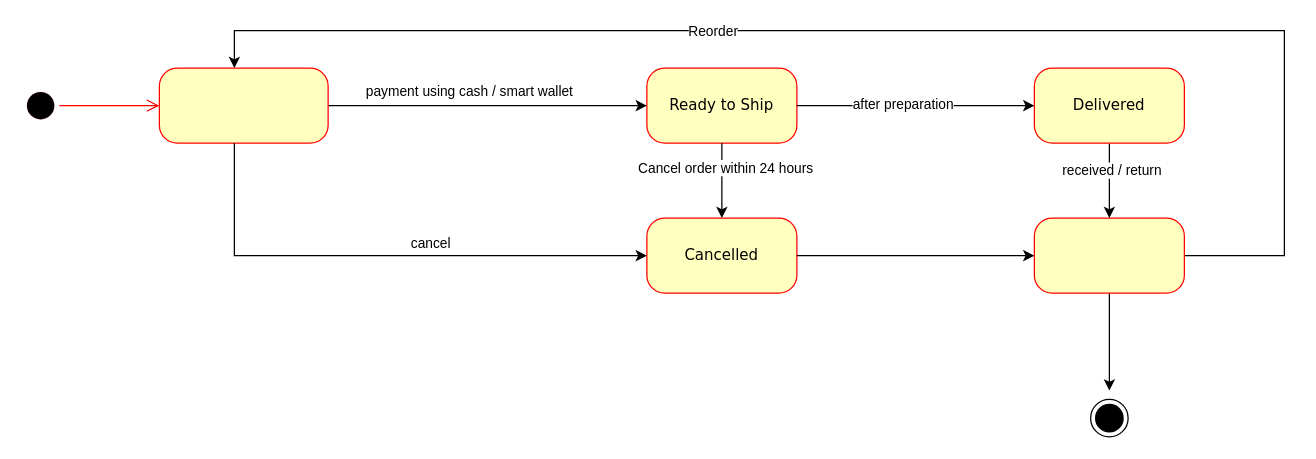
Image size: 1316x459. Some labels were removed from this diagram. The shapes that lost their labels are listed below. From the top down, each one's centre as x and y in pixels, then its label:
point 243,105: Created do/request payment
point 1108,255: Closed
